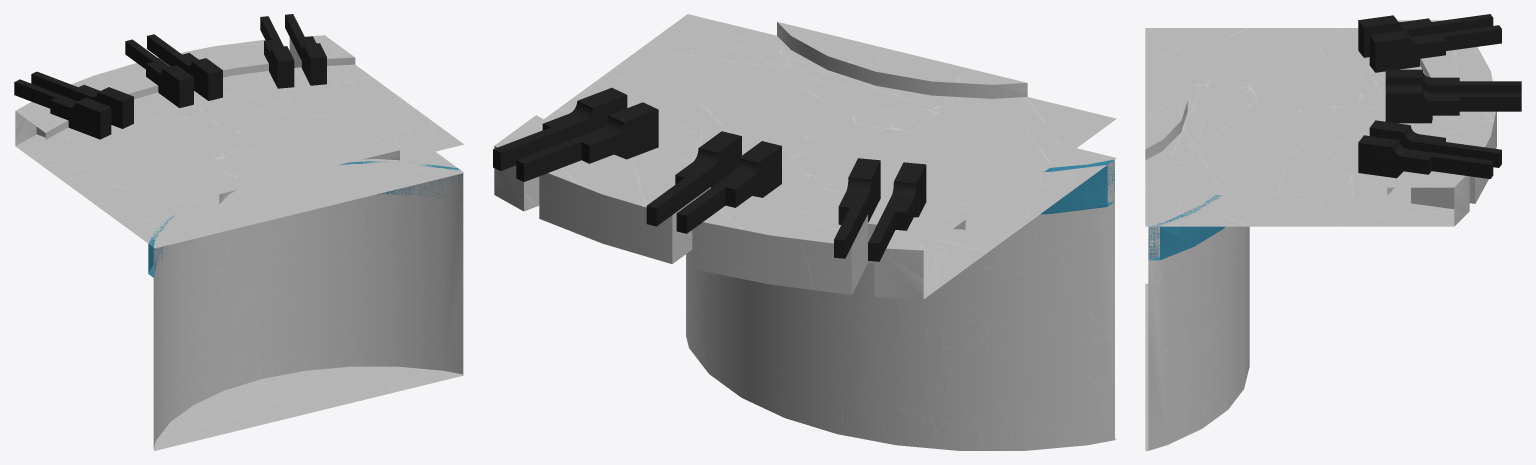
The model's file is RotatingTableStation_Cube01.glb.
3 renders of one model, left to right at view 1: azimuth 30°, elevation 25°; view 2: azimuth 150°, elevation 25°; view 3: azimuth 270°, elevation 25°, orthographic. The views are drawn at different scales.
Visible parts, largest first — view 1: color[1]; view 2: color[1]; view 3: color[1].
Part boxes in pixels (x1,y1,x2,y2): color[1]: (14, 14, 463, 450); color[1]: (493, 14, 1116, 450); color[1]: (1145, 14, 1521, 450).
Size of the model in its own units: 0.32 by 0.255 by 0.3042.
Materials: 3 (3 with a texture image).
